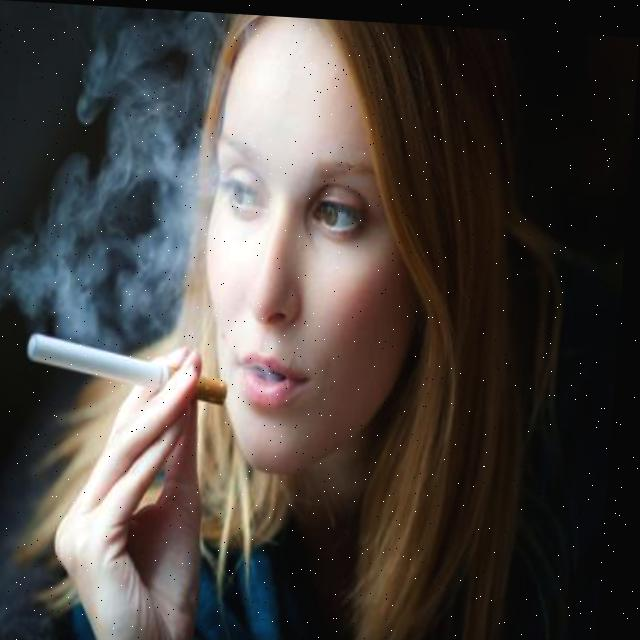cigarette: (27, 330, 238, 408)
